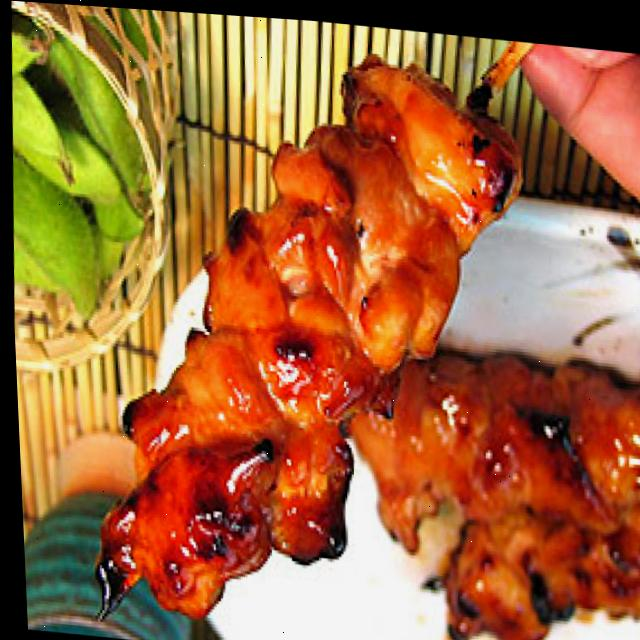烧串烤肉: (54, 3, 554, 640)
